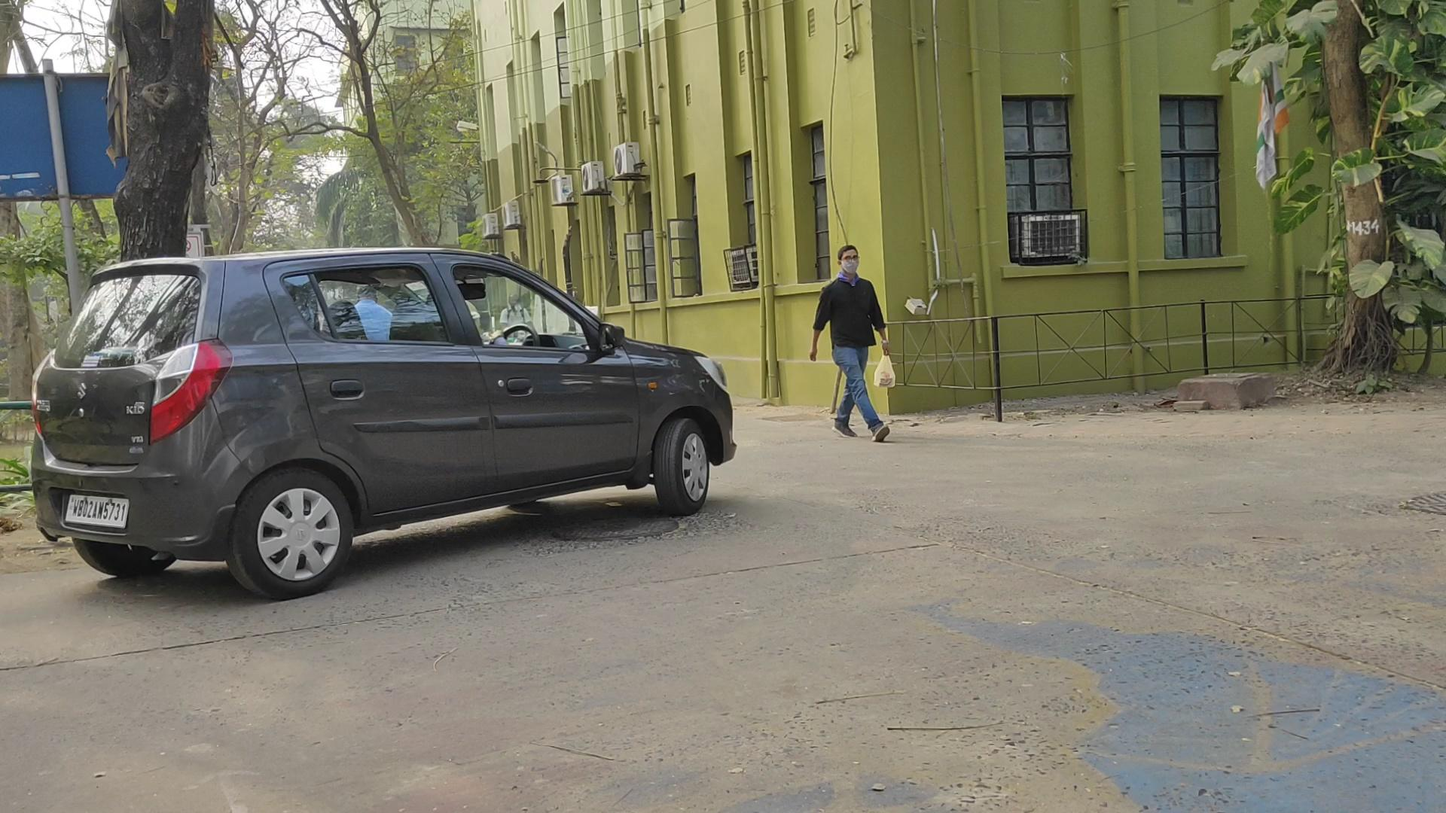car: (29, 246, 738, 602)
